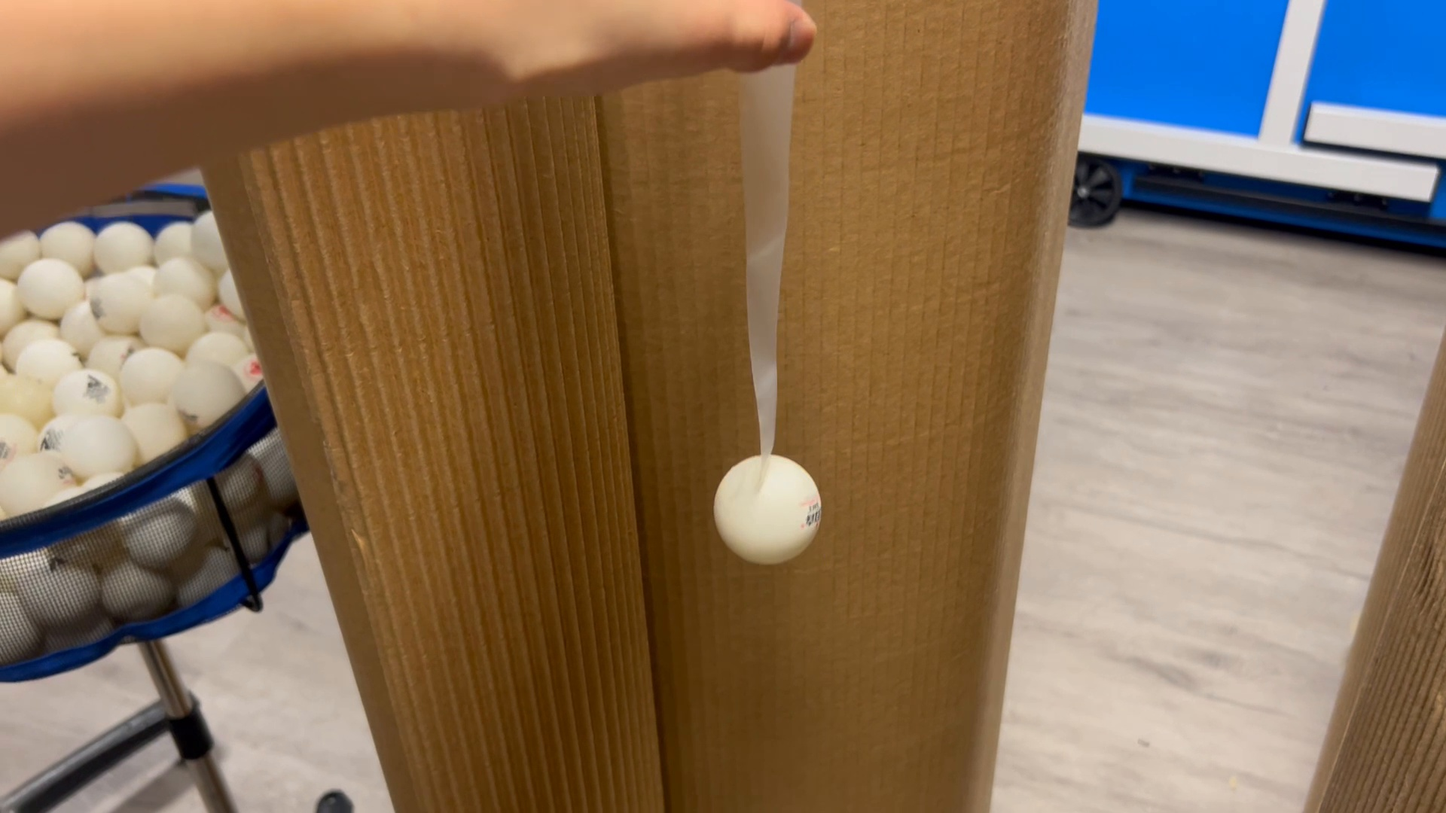Ball: (710, 460, 830, 566)
